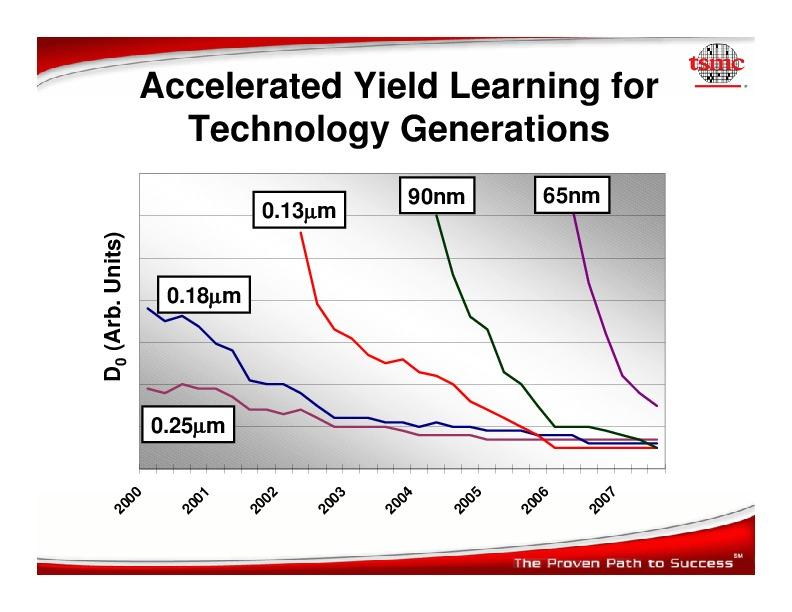title: (138, 65, 671, 157)
